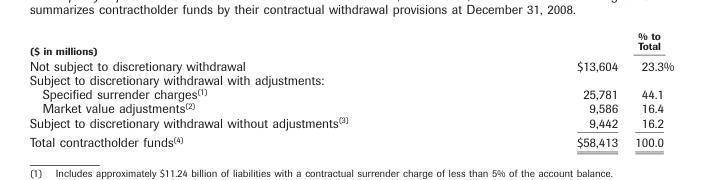table: (28, 28, 673, 149)
table column: (28, 28, 461, 149), (461, 28, 625, 149), (625, 28, 673, 149)
table column header: (28, 28, 673, 72)
table projected row header: (28, 72, 673, 86)
table row: (28, 28, 673, 72), (28, 131, 673, 149), (28, 115, 673, 131), (28, 100, 673, 115), (28, 72, 673, 86), (28, 86, 673, 100)
